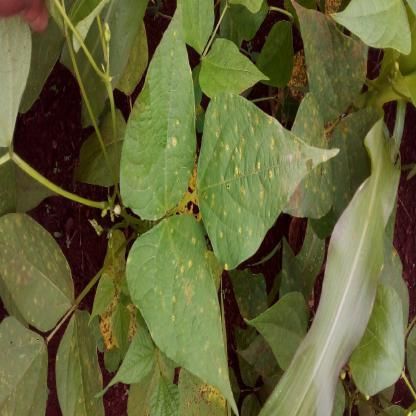Beans_Rust: (196, 95, 339, 269), (132, 219, 242, 413), (116, 10, 196, 215), (0, 212, 75, 330), (290, 2, 368, 111), (278, 96, 346, 216), (58, 308, 104, 416), (0, 320, 51, 416)
